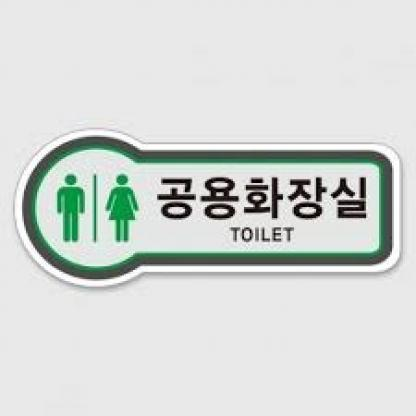toilet: (54, 166, 143, 250)
